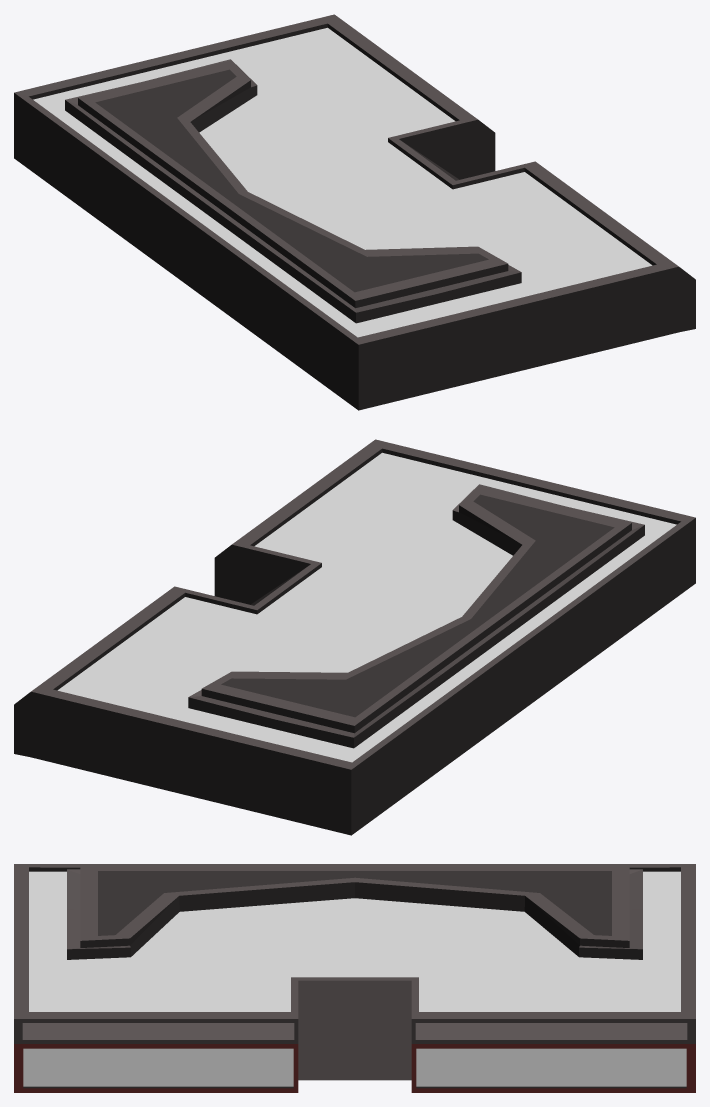
The model's file is stage.fbx.
3 renders of one model, top to bottom at view 1: azimuth 30°, elevation 25°; view 2: azimuth 150°, elevation 25°; view 3: azimuth 270°, elevation 25°, orthographic.
Parts seen in each view (by area): view 1: Cube; view 2: Cube; view 3: Cube.
Part boxes in pixels (<box>): Cube: <box>14,14,695,410</box>; Cube: <box>14,439,695,835</box>; Cube: <box>14,864,695,1092</box>.
Bounding box in the file's own units: 216 × 47.82 × 381.
